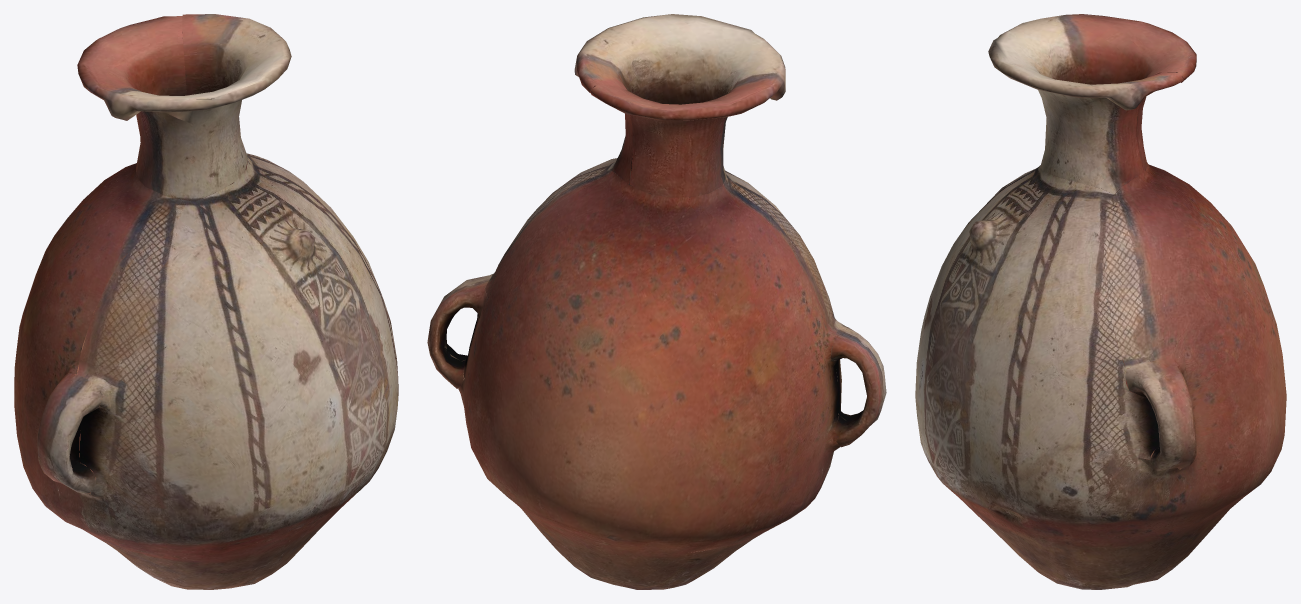
3 renders of one model, left to right at view 1: azimuth 30°, elevation 25°; view 2: azimuth 150°, elevation 25°; view 3: azimuth 270°, elevation 25°, orthographic. The views are drawn at different scales.
Parts seen in each view (by area): view 1: Mesh_0001; view 2: Mesh_0001; view 3: Mesh_0001.
Boxes of the visible parts, box(x1,y1,x2,y2) form: Mesh_0001: box(14, 14, 398, 589); Mesh_0001: box(427, 14, 886, 589); Mesh_0001: box(915, 14, 1286, 589).
Bounding box in the file's own units: 0.4706 × 0.6072 × 0.4016.
Materials: 1 (1 with a texture image).
